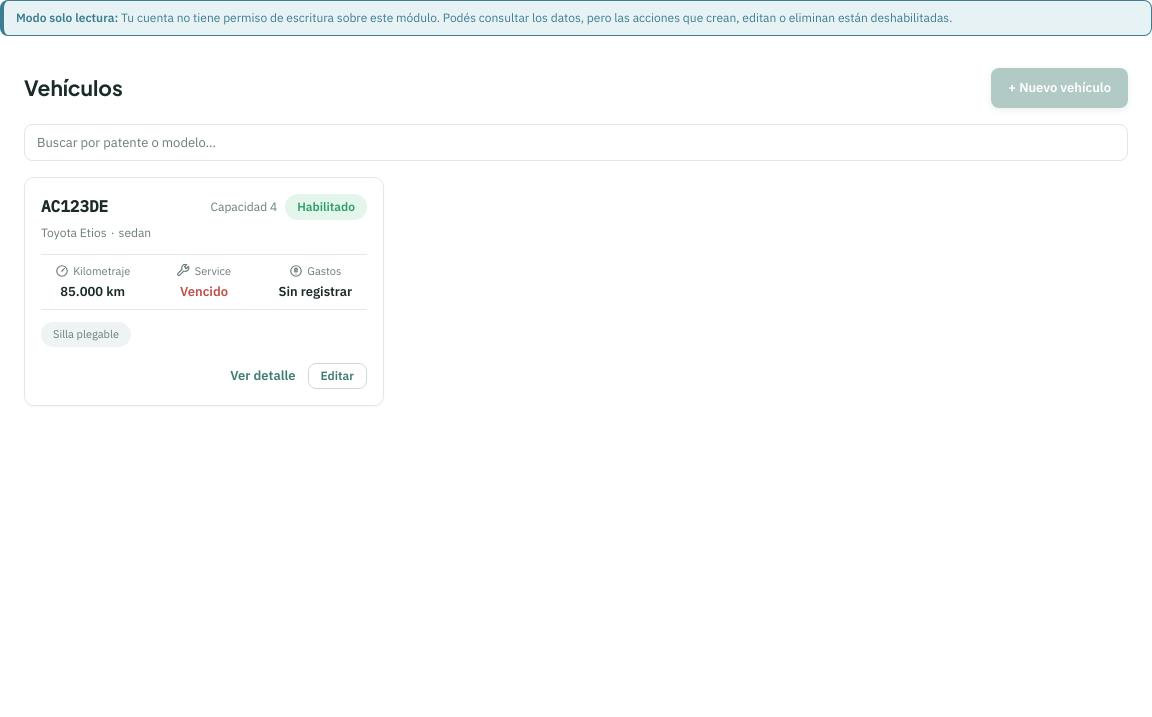
Test: VehiculosPage — aviso de solo lectura › sin permiso de escritura: muestra el aviso también en el detalle (triangulación)
The width and height of the screenshot is (1152, 717).
Expected: the text "AC123DE" is shown, [41,194,108,218]
Step 1. Click the text "Toyota Etios" → (74, 233), box [41,224,107,242]
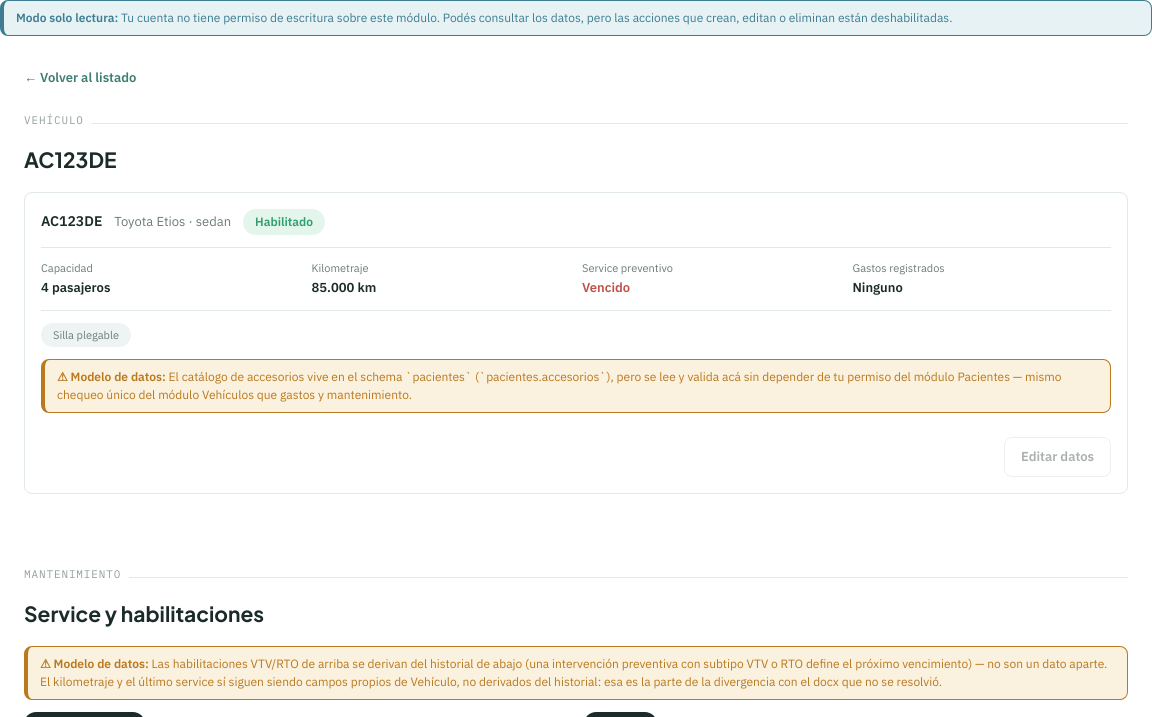
Expected: the text "Modo solo lectura:" is shown, [16,10,121,25]
Expected: the button "Editar datos" is shown, [1004,437,1111,476]
